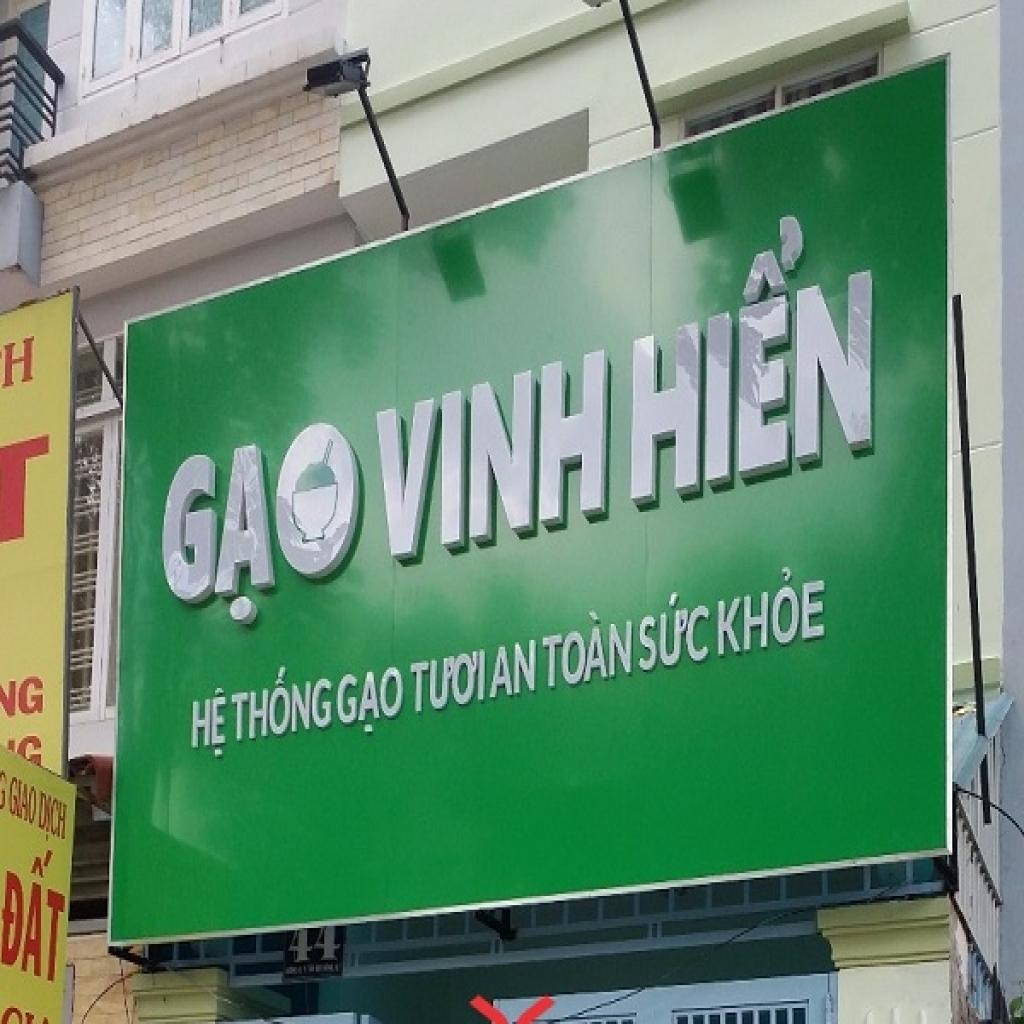text: (632, 185, 876, 503), (374, 347, 608, 560), (160, 414, 367, 638), (0, 828, 72, 988), (717, 558, 828, 658), (228, 658, 332, 745), (541, 599, 635, 690), (638, 583, 712, 676), (410, 647, 488, 715), (336, 665, 405, 736), (488, 638, 539, 702), (189, 686, 227, 761), (0, 334, 38, 395), (287, 926, 343, 967), (38, 789, 70, 850), (7, 772, 39, 830), (17, 674, 46, 722), (0, 768, 10, 816)
